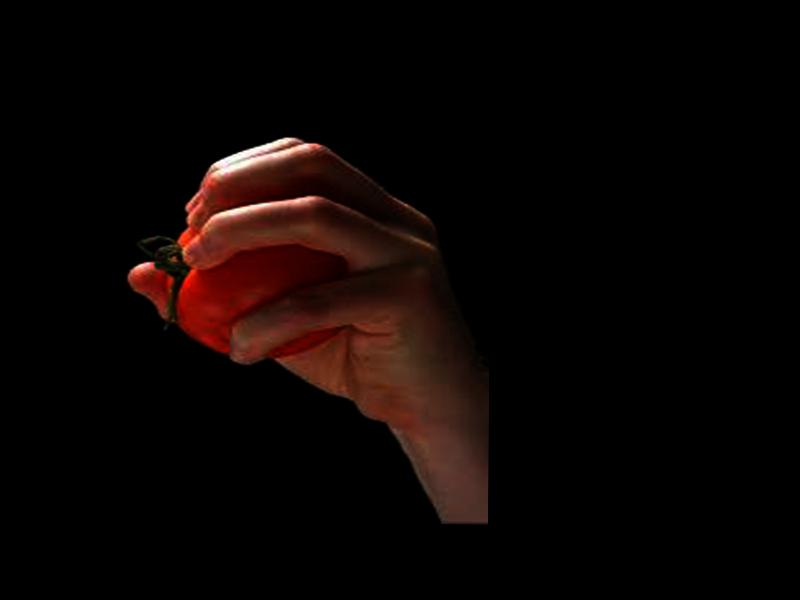Tomato: (174, 224, 352, 359)
